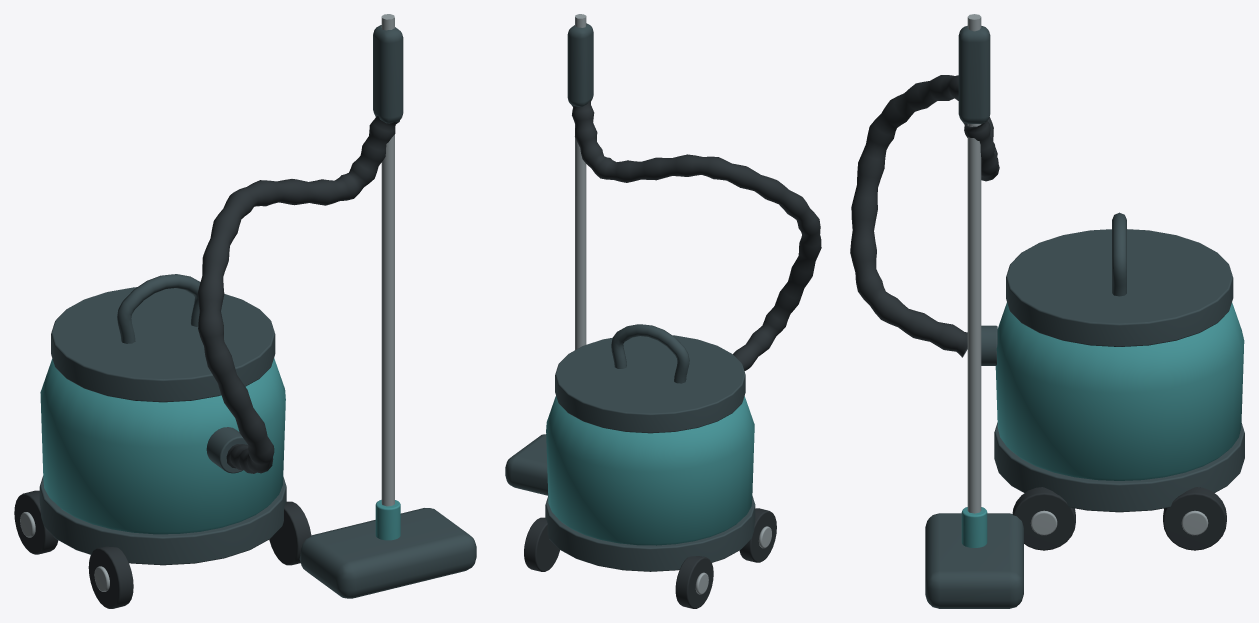
File: HotelTogether-Vacuum.glb
3 views of the same model, side by side, from view 1: azimuth 30°, elevation 25°; view 2: azimuth 150°, elevation 25°; view 3: azimuth 270°, elevation 25° (orthographic). The views are drawn at different scales.
Visible parts, largest first — view 1: Vacuum_Canister, Vacuum_Lid, Vacuum_CorrugatedHose, Vacuum_FloorNozzle, Vacuum_Base, Vacuum_Wand, Vacuum_WandGrip, Vacuum_Wheel, Vacuum_CarryHandle, Vacuum_Wheel.002, Vacuum_Wheel.001, Vacuum_HosePort (+1 smaller); view 2: Vacuum_Canister, Vacuum_Lid, Vacuum_CorrugatedHose, Vacuum_Base, Vacuum_Wand, Vacuum_WandGrip, Vacuum_FloorNozzle, Vacuum_CarryHandle, Vacuum_Wheel.001, Vacuum_Wheel.003, Vacuum_Wheel; view 3: Vacuum_Canister, Vacuum_Lid, Vacuum_CorrugatedHose, Vacuum_FloorNozzle, Vacuum_Base, Vacuum_Wand, Vacuum_WandGrip, Vacuum_Wheel.003, Vacuum_Wheel.002, Vacuum_CarryHandle, Vacuum_NozzleJoint, Vacuum_HosePort (+2 smaller).
Part boxes in pixels (x1,y1,x2,y2): Vacuum_Canister: (40, 358, 285, 534); Vacuum_Lid: (51, 287, 275, 402); Vacuum_CorrugatedHose: (197, 116, 399, 473); Vacuum_FloorNozzle: (299, 508, 476, 598); Vacuum_Base: (39, 476, 286, 565); Vacuum_Wand: (381, 14, 394, 506); Vacuum_WandGrip: (373, 25, 403, 123); Vacuum_Wheel: (88, 546, 133, 608); Vacuum_CarryHandle: (117, 274, 200, 343); Vacuum_Wheel.002: (269, 501, 311, 565); Vacuum_Wheel.001: (14, 490, 58, 554); Vacuum_HosePort: (206, 427, 247, 473); Vacuum_Canister: (546, 396, 754, 545); Vacuum_Lid: (555, 335, 745, 433); Vacuum_CorrugatedHose: (571, 100, 821, 370); Vacuum_Base: (545, 496, 755, 571); Vacuum_Wand: (575, 14, 586, 349); Vacuum_WandGrip: (567, 23, 593, 106); Vacuum_FloorNozzle: (505, 434, 548, 495); Vacuum_CarryHandle: (611, 324, 689, 383); Vacuum_Wheel.001: (675, 556, 713, 608); Vacuum_Wheel.003: (524, 517, 559, 571); Vacuum_Wheel: (739, 508, 776, 562); Vacuum_Canister: (995, 302, 1244, 480); Vacuum_Lid: (1006, 229, 1233, 346); Vacuum_CorrugatedHose: (850, 75, 999, 357); Vacuum_FloorNozzle: (925, 513, 1023, 608); Vacuum_Base: (994, 422, 1244, 512); Vacuum_Wand: (967, 14, 981, 513); Vacuum_WandGrip: (958, 26, 990, 123); Vacuum_Wheel.003: (1163, 487, 1226, 550); Vacuum_Wheel.002: (1012, 487, 1075, 550); Vacuum_CarryHandle: (1112, 212, 1126, 296); Vacuum_NozzleJoint: (961, 507, 987, 547); Vacuum_HosePort: (981, 325, 997, 365).
Size of the model in its own units: 0.666 by 1.07 by 0.6805.
